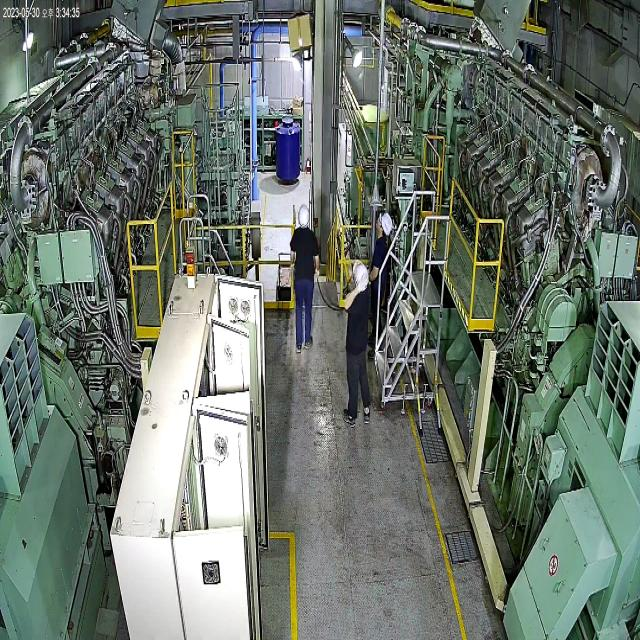Water Tank: (272, 112, 303, 192)
worker: (342, 255, 375, 432), (288, 196, 322, 360), (366, 208, 392, 364)
